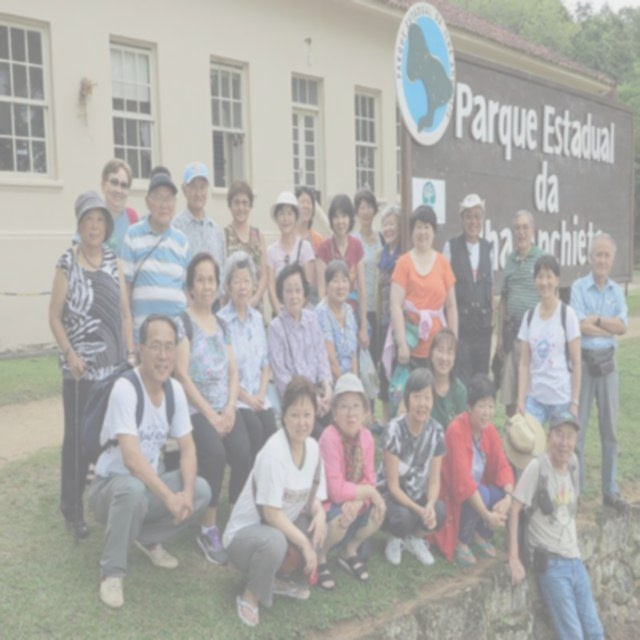pessoa: (85, 312, 214, 610), (42, 186, 141, 549), (218, 368, 332, 632), (172, 249, 255, 568), (504, 403, 610, 639), (310, 369, 390, 599), (381, 200, 462, 424), (368, 362, 452, 572), (568, 230, 630, 512), (514, 254, 582, 482), (436, 372, 514, 568), (118, 171, 193, 370), (214, 248, 278, 459), (267, 261, 336, 444), (495, 208, 550, 418), (441, 192, 494, 394), (314, 192, 372, 354), (168, 161, 228, 314), (351, 187, 386, 428), (396, 326, 469, 438), (370, 200, 404, 436), (219, 178, 269, 334), (313, 256, 360, 386), (266, 190, 316, 312), (100, 158, 143, 255), (292, 183, 324, 253), (150, 164, 172, 178)
